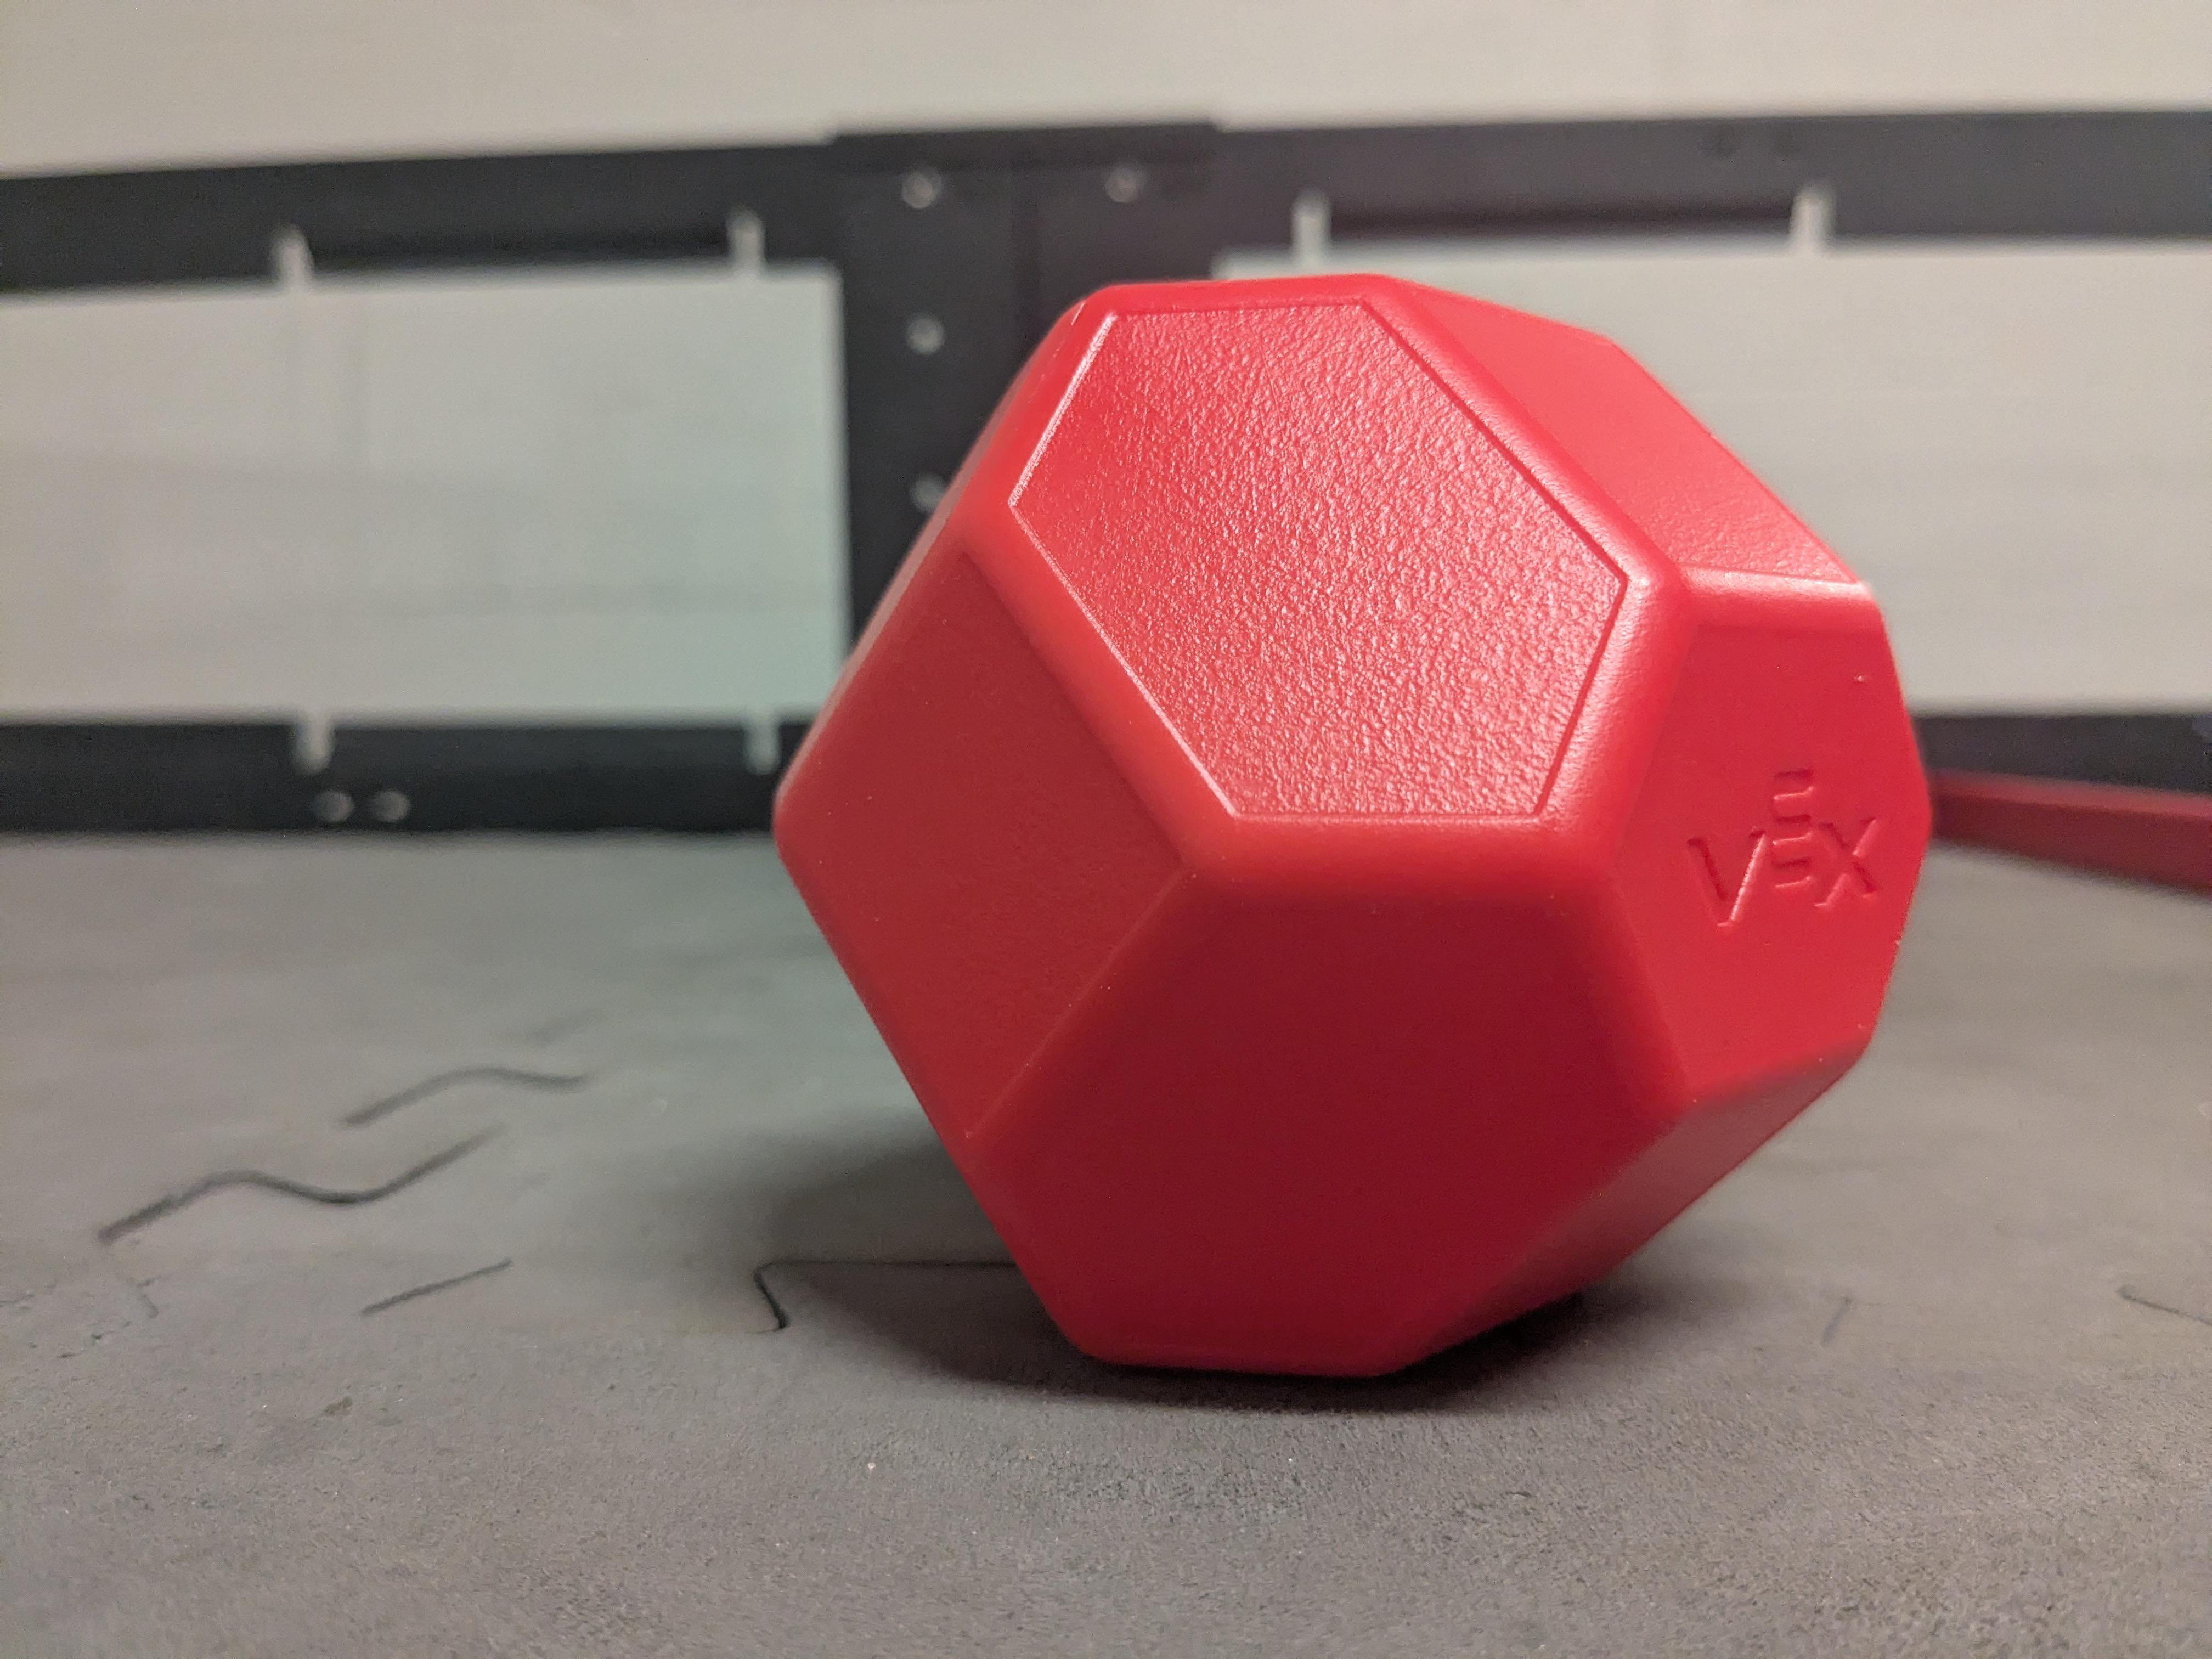Vex-Pieces-RED: (775, 275, 1928, 1373)
